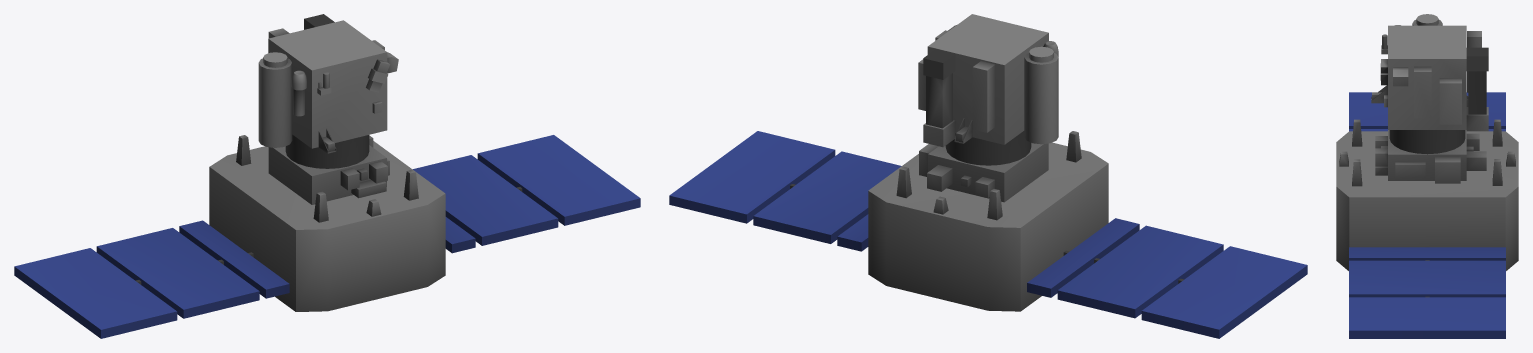
The model's file is space-satellites-satellite_v16.fbx.
The picture shows the model from 3 angles, left to right: view 1: azimuth 30°, elevation 25°; view 2: azimuth 150°, elevation 25°; view 3: azimuth 270°, elevation 25°; orthographic projection. The views are drawn at different scales.
Visible parts, largest first — view 1: Satellite_v16; view 2: Satellite_v16; view 3: Satellite_v16.
Part boxes in pixels (<box>): Satellite_v16: <box>14,14,640,338</box>; Satellite_v16: <box>669,14,1307,338</box>; Satellite_v16: <box>1336,14,1518,338</box>.
Size of the model in its own units: 8 by 3.08 by 2.59.
